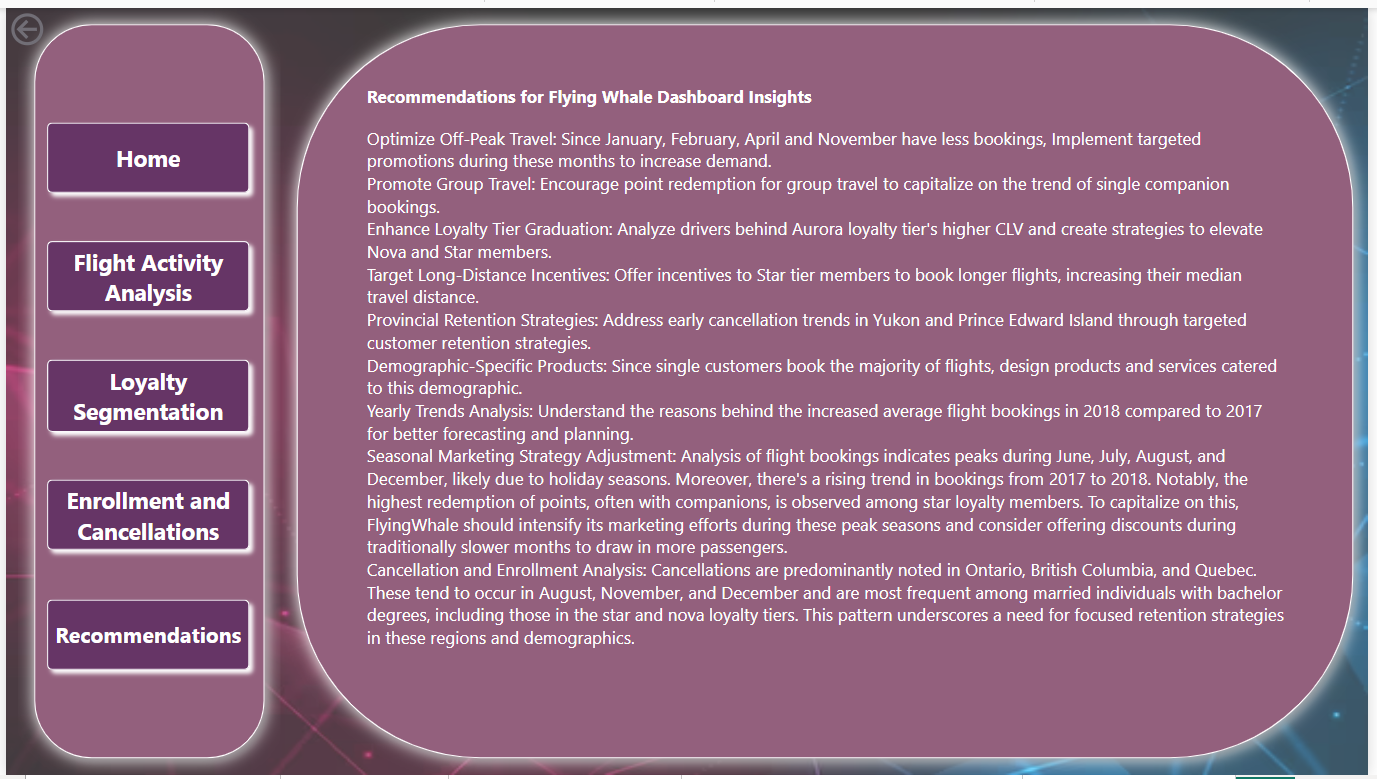

What the dashboard file says about the page in this screenshot:
{"tool":"powerbi","page":{"name":"Recommendations","canvas":[1280,720],"ordinal":4},"visuals":[{"type":"shape","box":[10.9,0,246.8,720],"z":0},{"type":"actionButton","box":[0,0,100,40],"z":1000},{"type":"shape","box":[257.7,0,1023,720],"z":7000},{"type":"textbox","box":[334.2,65.6,871.5,593.5],"z":8000},{"type":"shape","box":[30,209.5,208,84],"z":8001},{"type":"shape","box":[30,434.5,208,84],"z":8002},{"type":"shape","box":[30,321,208,86],"z":8003},{"type":"shape","box":[30,546,208,84],"z":8004},{"type":"shape","box":[30,98,208,84],"z":8005}]}

Visuals, with their boxes in screenshot pixels (x1, y1, x2, y2), scaled from the page's 1280x720 canvas onto the 1377x779 screenshot:
shape: bbox=[12, 0, 277, 778]
actionButton: bbox=[0, 0, 108, 43]
shape: bbox=[277, 0, 1376, 778]
textbox: bbox=[360, 71, 1297, 713]
shape: bbox=[32, 227, 256, 318]
shape: bbox=[32, 470, 256, 561]
shape: bbox=[32, 347, 256, 440]
shape: bbox=[32, 591, 256, 682]
shape: bbox=[32, 106, 256, 197]
